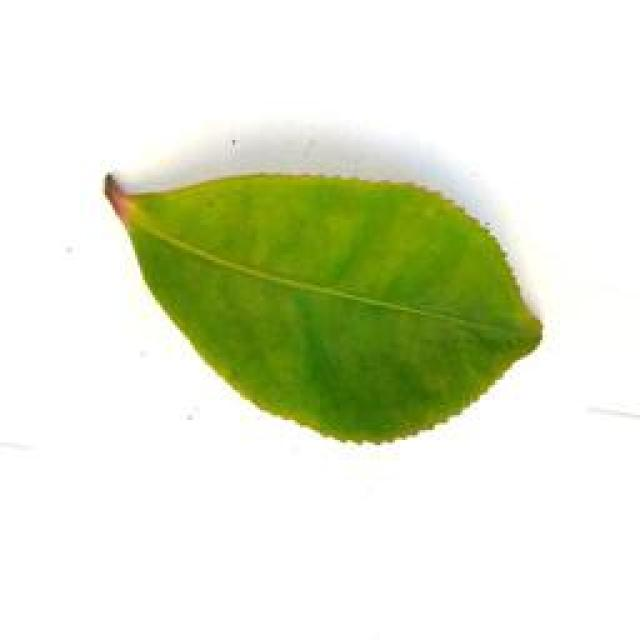Healthy: (94, 158, 549, 449)
